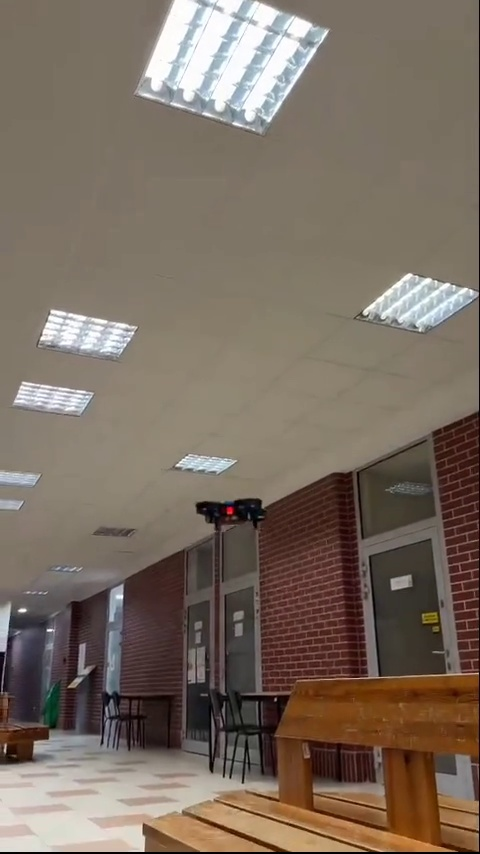drone: (194, 494, 268, 533)
